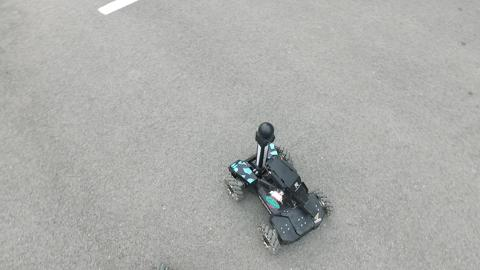chariot: (209, 116, 345, 256)
